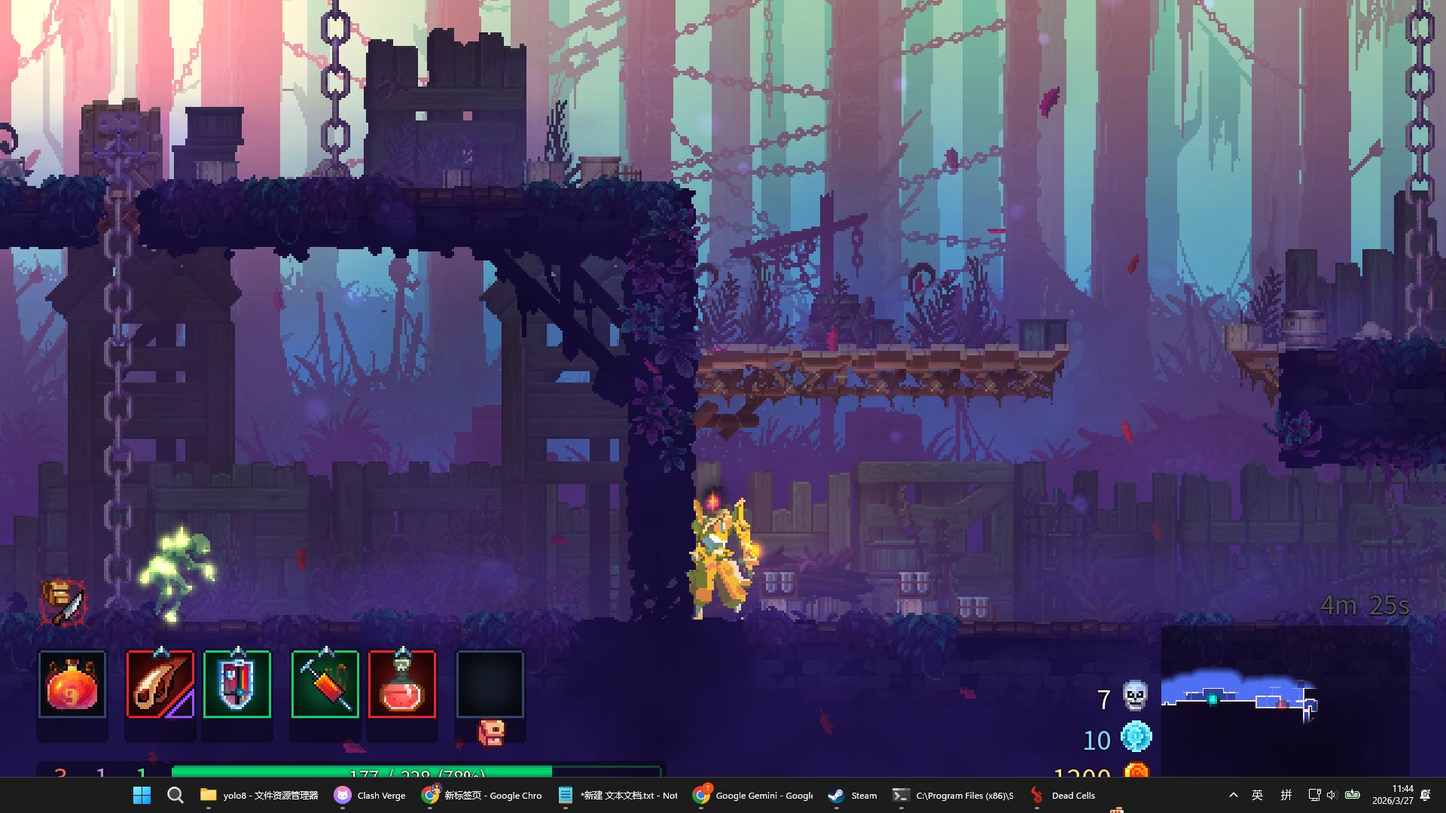gamer: (684, 494, 764, 619)
green1: (140, 525, 217, 625)
